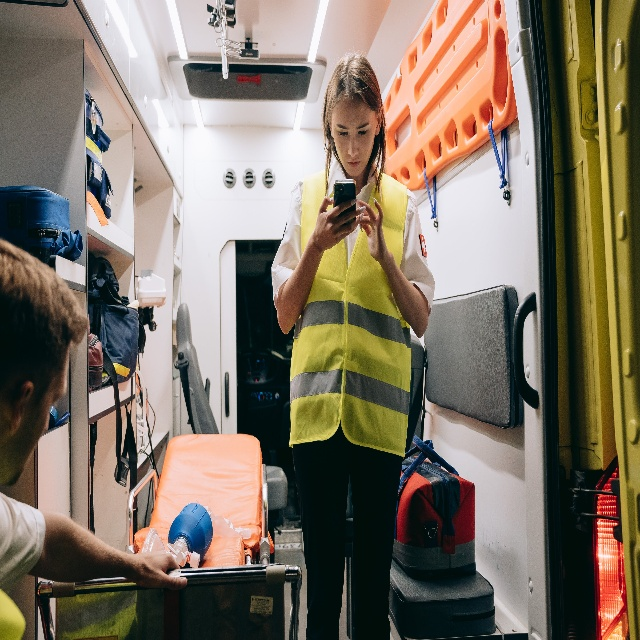Sin_guantes: (316, 196, 366, 256), (125, 548, 187, 593), (357, 200, 389, 266)
